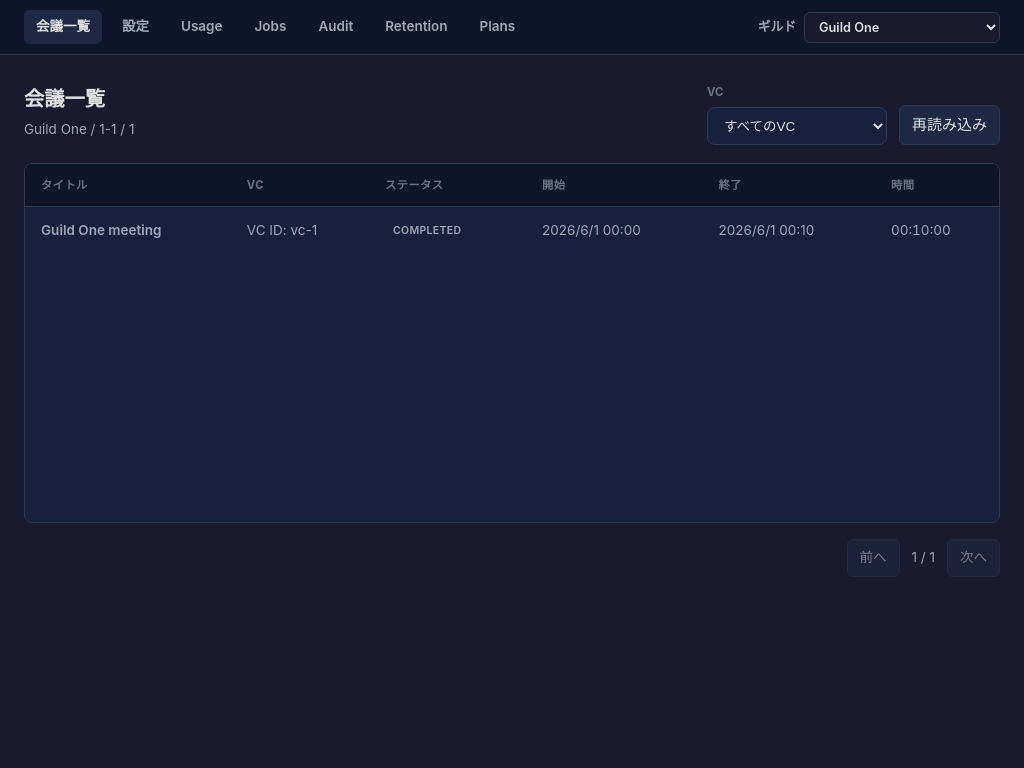
Test: App access controls › clears the selected VC when switching guilds
Expected: the link "Guild One meeting" is shown, x1=41 y1=222 x2=161 y2=238
Select "VC ID: vc-1" in the dropdown labelled "VC" at (797, 126), box x1=707 y1=107 x2=887 y2=145
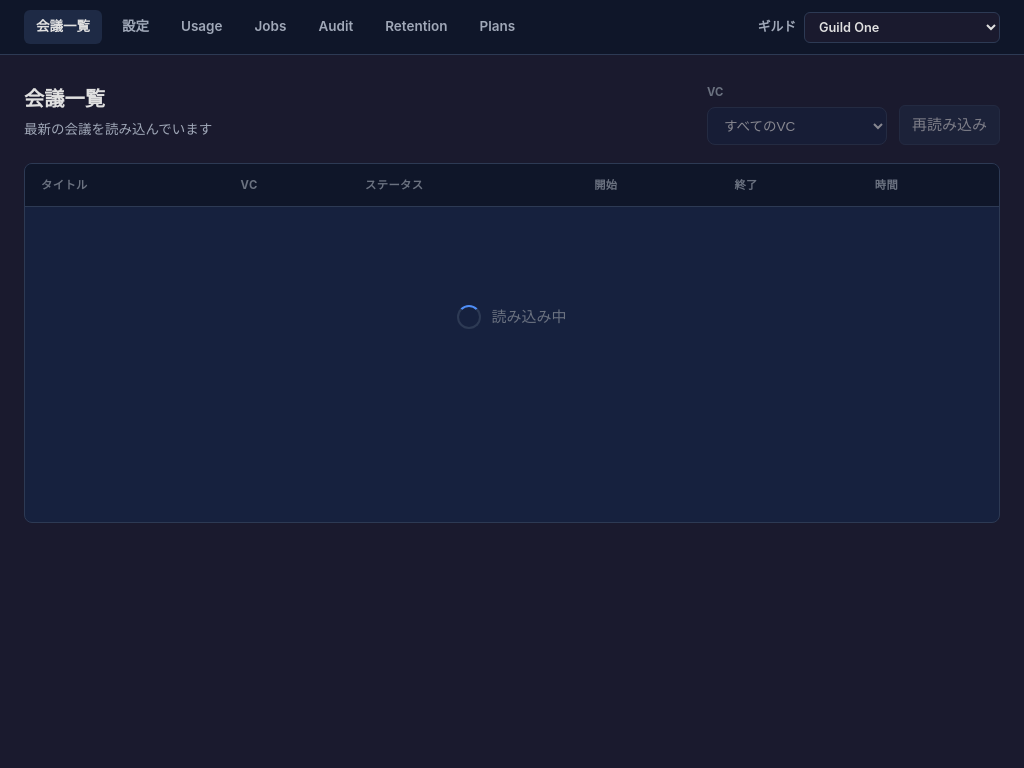
Select "Guild Two" in the dropdown labelled "ギルド" at (902, 27), box x1=804 y1=12 x2=1000 y2=42
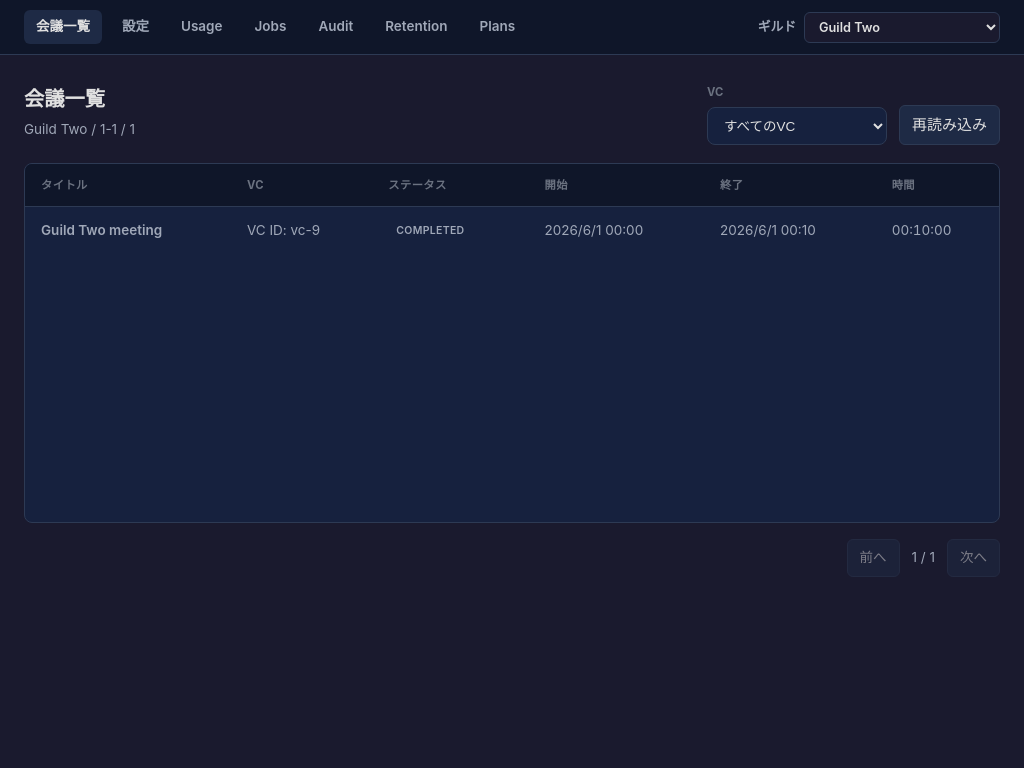
Now the link "Guild Two meeting" is shown, box x1=41 y1=222 x2=162 y2=238
